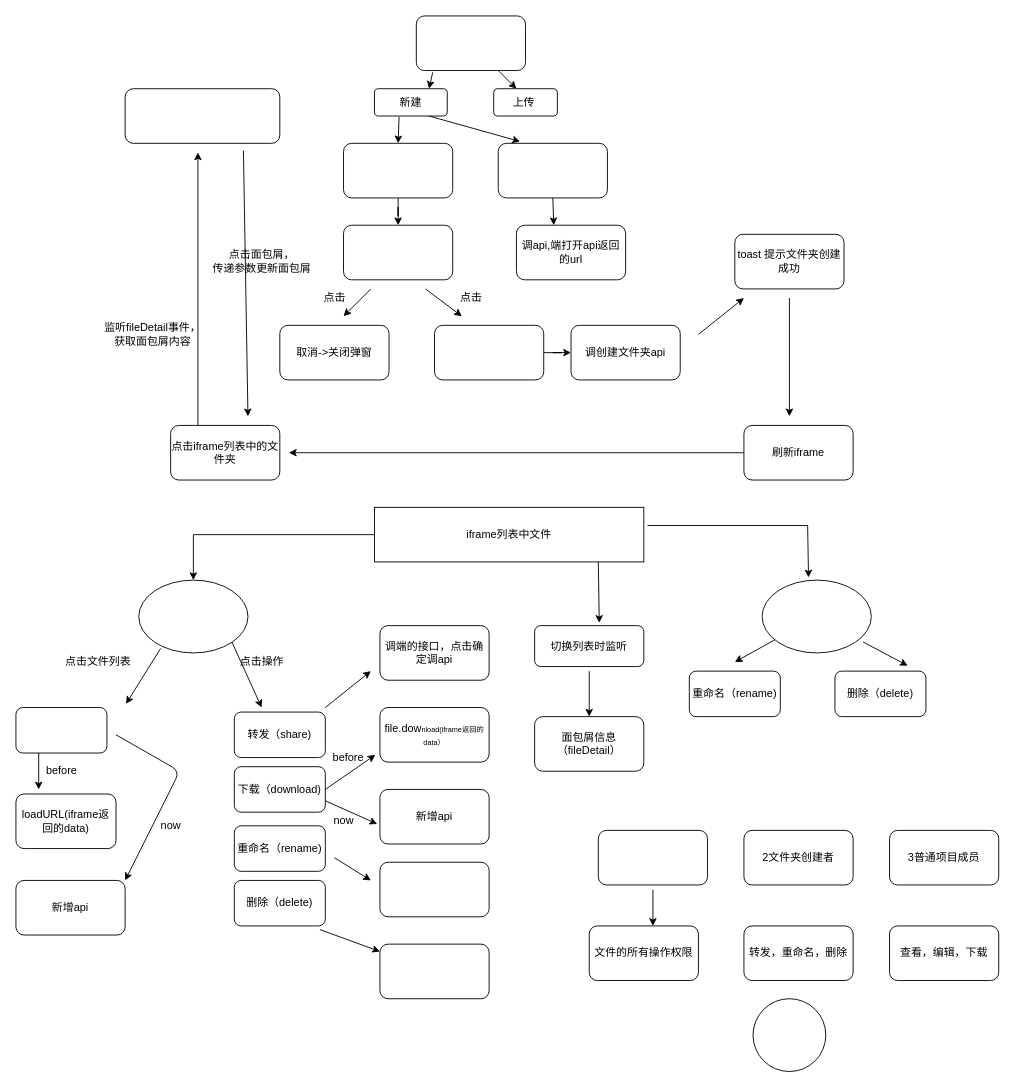
Some shapes in this 1015 by 1087 pixel diagram are drawn without their labels. The shapes that lost their labels are listed below. From the top down, each one's box as (x1, y1, x2, y2) in pixels, then its label:
(415, 15, 526, 71): 如流用户
(124, 88, 280, 143): 面包屑（最多展示五级，超过5级第二级展示...,hover展示第二级到第n-3级的）
(343, 142, 453, 198): 新建文件夹
(497, 142, 607, 198): 新建文档
(343, 224, 453, 280): 弹出新建文件夹Dialog
(434, 324, 544, 380): 确定
(138, 579, 248, 653): 文件
(761, 579, 871, 653): 文件夹
(15, 707, 107, 753): 查看，编辑(edit)
(597, 829, 708, 885): 1项目创建者
(379, 861, 489, 917): 跳出弹窗，点击确定调api
(379, 943, 489, 999): 弹窗二次确认，点击确定调api
(752, 998, 826, 1072): 权限
